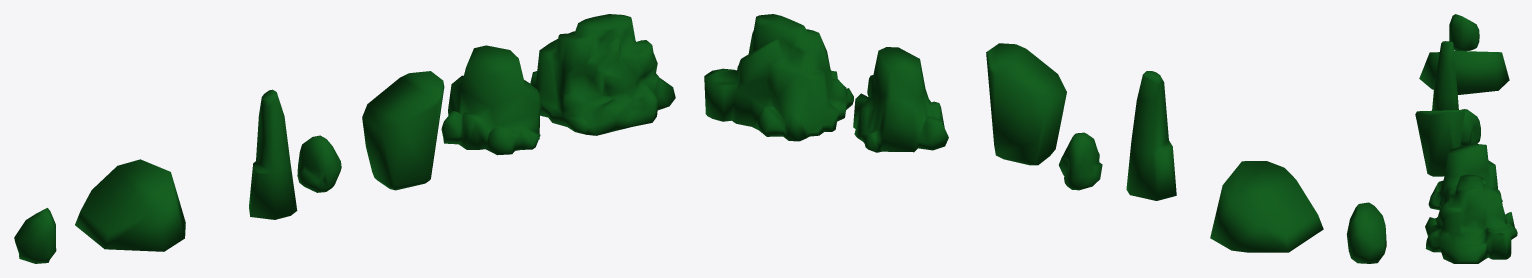
The picture shows the model from 3 angles, left to right: view 1: azimuth 30°, elevation 25°; view 2: azimuth 150°, elevation 25°; view 3: azimuth 270°, elevation 25°; orthographic projection. The views are drawn at different scales.
Visible parts, largest first — view 1: ZBrush_defualt_group, 对象001, 对象005, 对象002, 对象006, 对象003, 对象004; view 2: ZBrush_defualt_group, 对象005, 对象002, 对象001, 对象006, 对象004, 对象003; view 3: ZBrush_defualt_group, 对象005, 对象002, 对象001, 对象006, 对象004, 对象003.
Part boxes in pixels (<box>): ZBrush_defualt_group: <box>530,14,675,135</box>; 对象001: <box>441,45,541,155</box>; 对象005: <box>75,159,185,251</box>; 对象002: <box>362,71,444,190</box>; 对象006: <box>249,89,297,219</box>; 对象003: <box>297,135,341,192</box>; 对象004: <box>14,208,56,263</box>; ZBrush_defualt_group: <box>704,14,853,141</box>; 对象005: <box>1210,161,1323,252</box>; 对象002: <box>986,43,1066,165</box>; 对象001: <box>853,47,948,152</box>; 对象006: <box>1126,71,1176,200</box>; 对象004: <box>1346,202,1386,263</box>; 对象003: <box>1059,132,1102,190</box>; ZBrush_defualt_group: <box>1425,174,1517,263</box>; 对象005: <box>1419,51,1509,94</box>; 对象002: <box>1415,110,1464,176</box>; 对象001: <box>1428,143,1502,210</box>; 对象006: <box>1432,41,1458,110</box>; 对象004: <box>1449,14,1479,51</box>; 对象003: <box>1460,109,1480,146</box>.
Size of the model in its own units: 1155 by 202 by 216.
